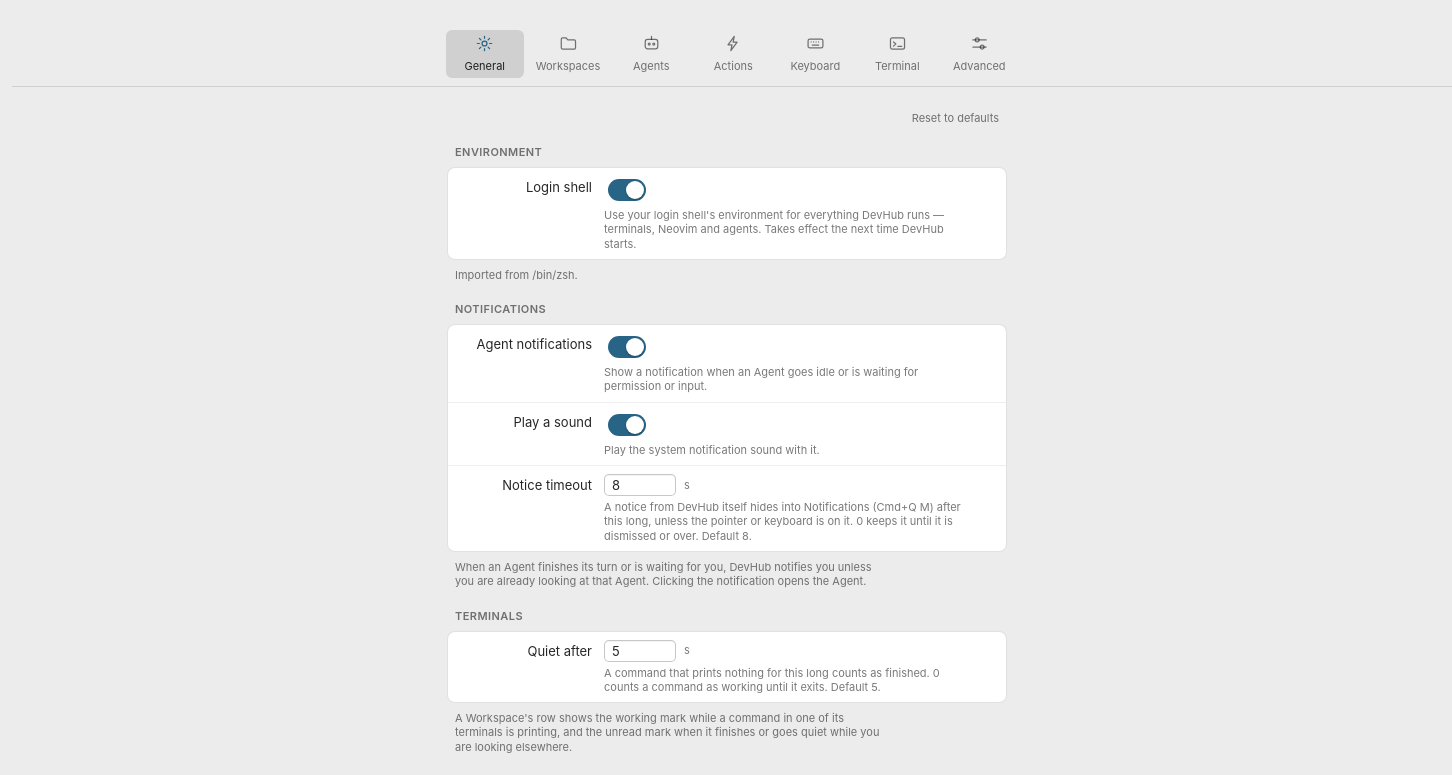
Test: a collection of workspace sources › selects the first entry and shows that entry's form
The width and height of the screenshot is (1452, 775).
Click the tab "Workspaces": point(568, 54) top-left (528, 30), bottom-right (608, 78)
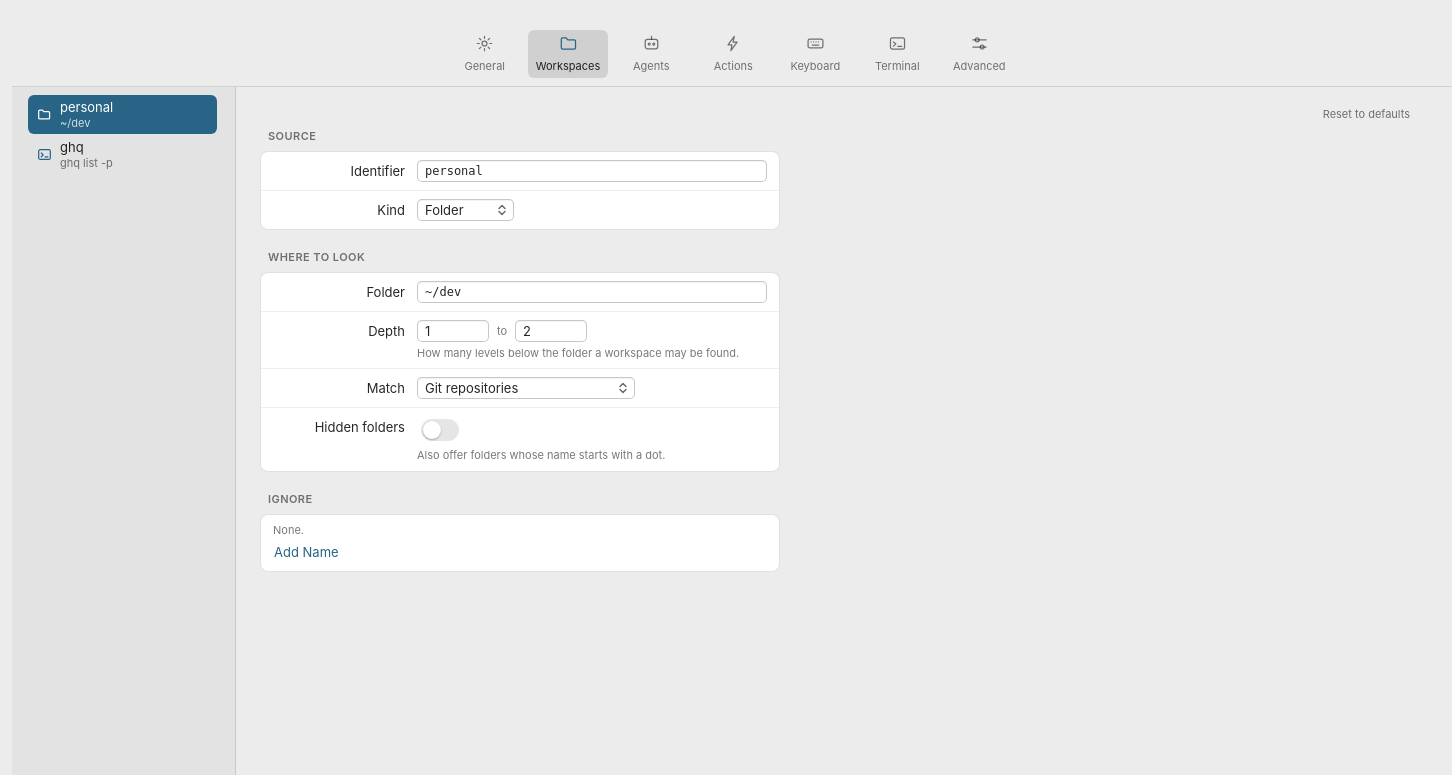
Expected: the number of options is 2, top-left (28, 95), bottom-right (217, 134); top-left (36, 139), bottom-right (113, 170)
Expected: the option "personal ~/dev" is shown, top-left (28, 95), bottom-right (217, 134)
Expected: the field named "Workspace source identifier" holds "personal", top-left (417, 160), bottom-right (767, 182)
